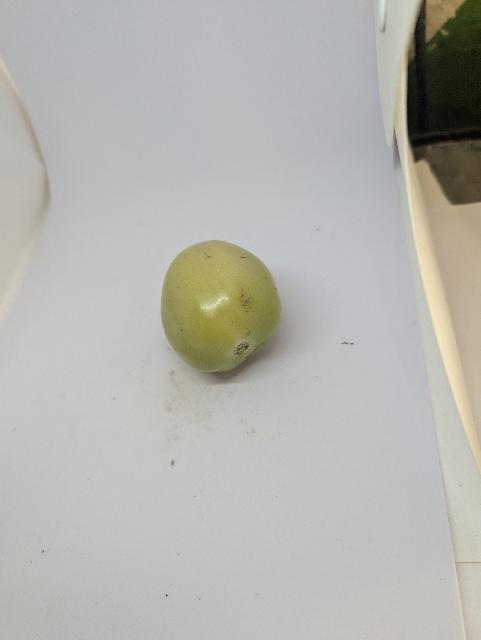green: (159, 236, 284, 374)
